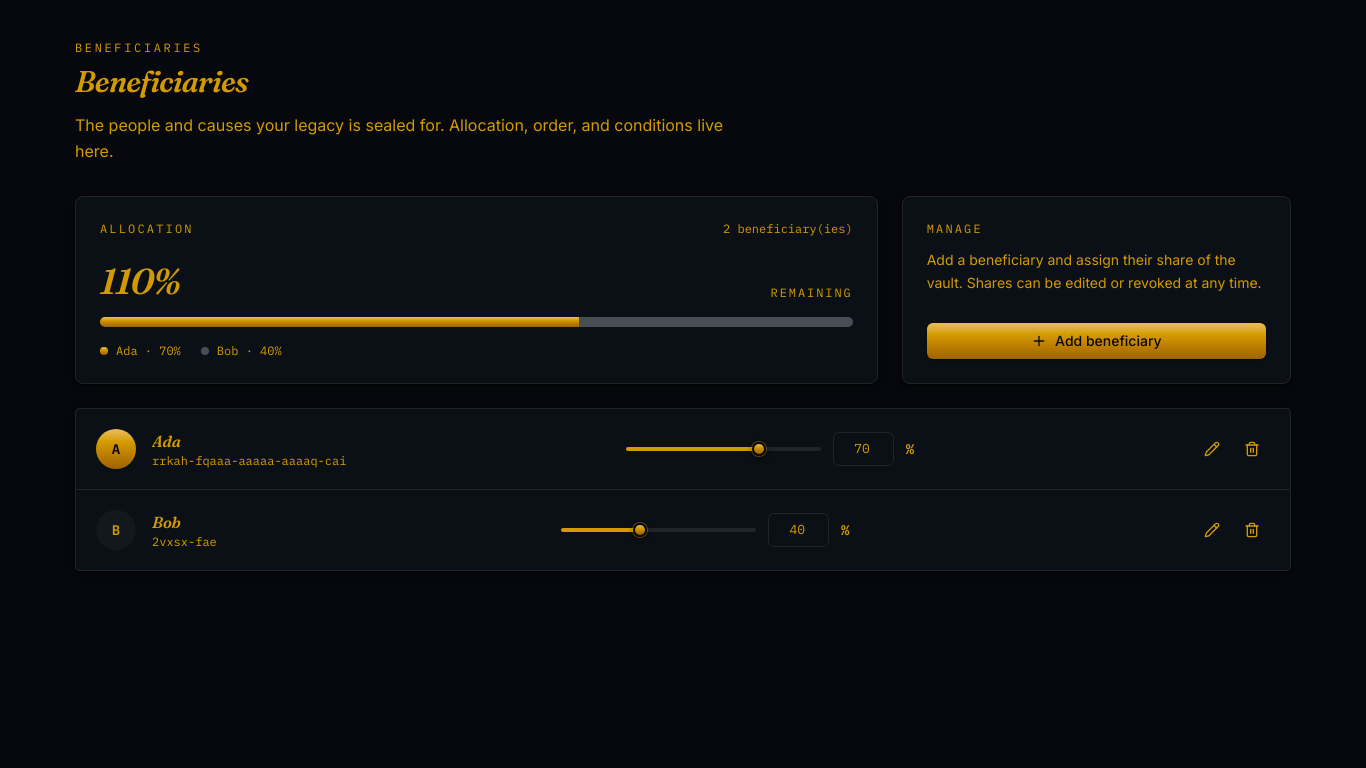
Test: BeneficiaryPage › rejects an edit that would push the total allocation over 100%
Click the button named "Edit Ada" at coordinates (1212, 449), box [1194, 431, 1230, 467]
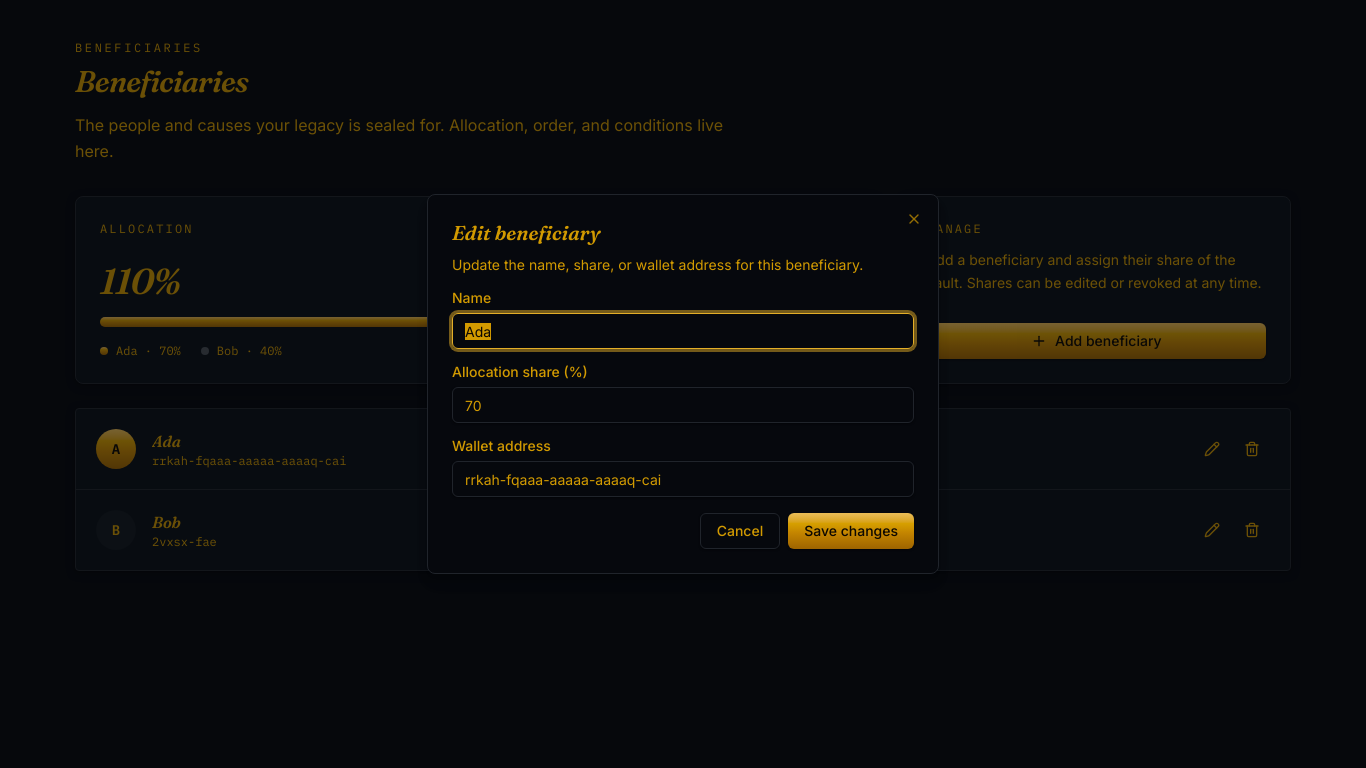
Replace the text in the number field labelled "Allocation share (%)" with "80" at coordinates (683, 405), box [452, 387, 914, 423]
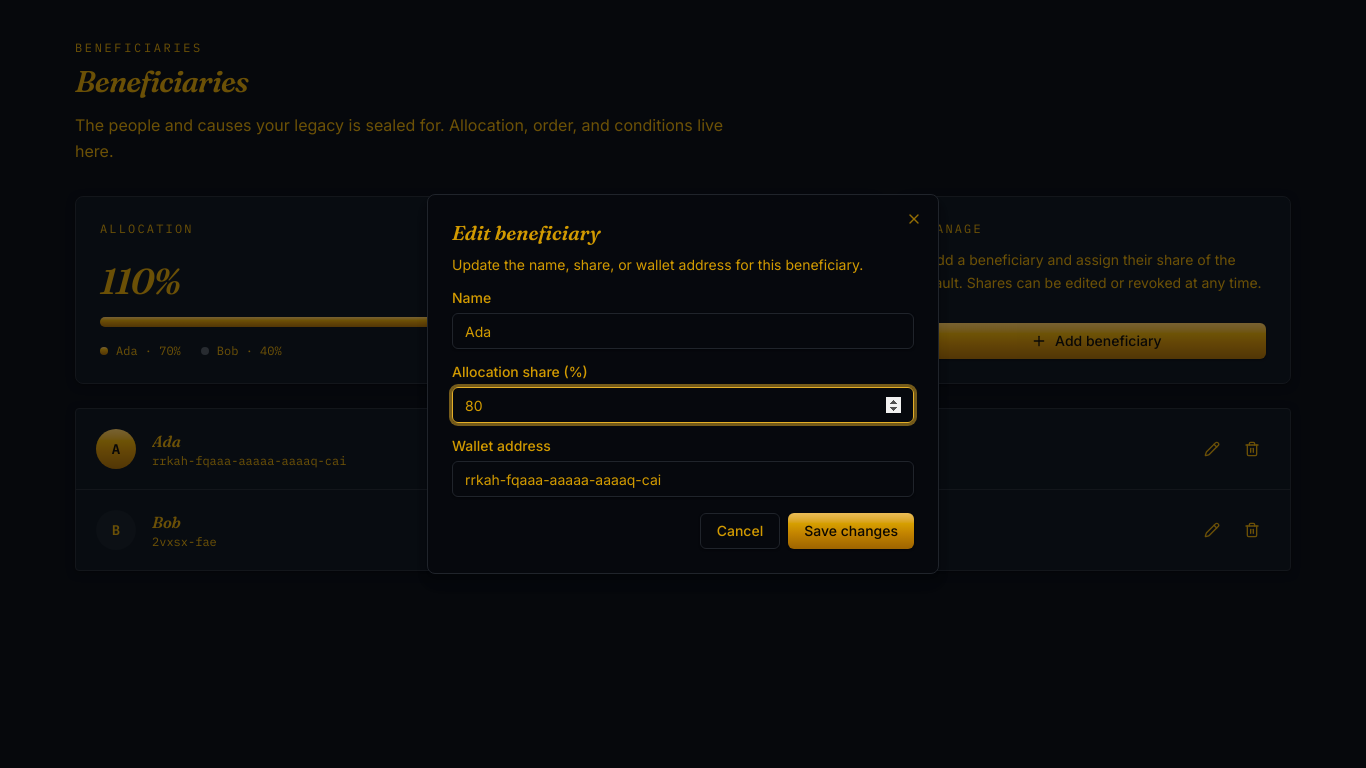
Click the button "Save changes" at coordinates (851, 531), box [788, 513, 914, 549]
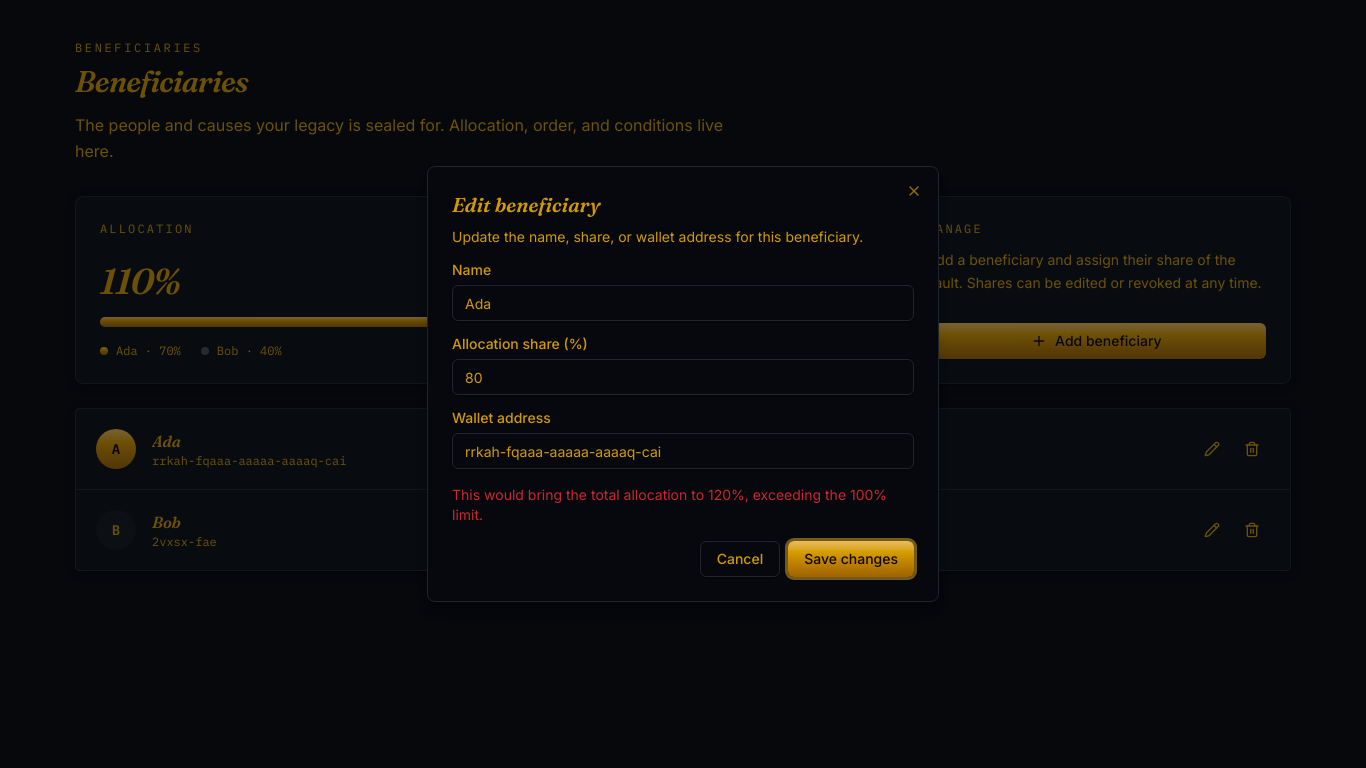
Expected: the dialog with test id "beneficiary.modal" is shown, [427, 166, 939, 602]
Expected: the text "This would bring the total allocation to 120%, exceeding the 100% limit." is shown, [452, 485, 914, 525]
